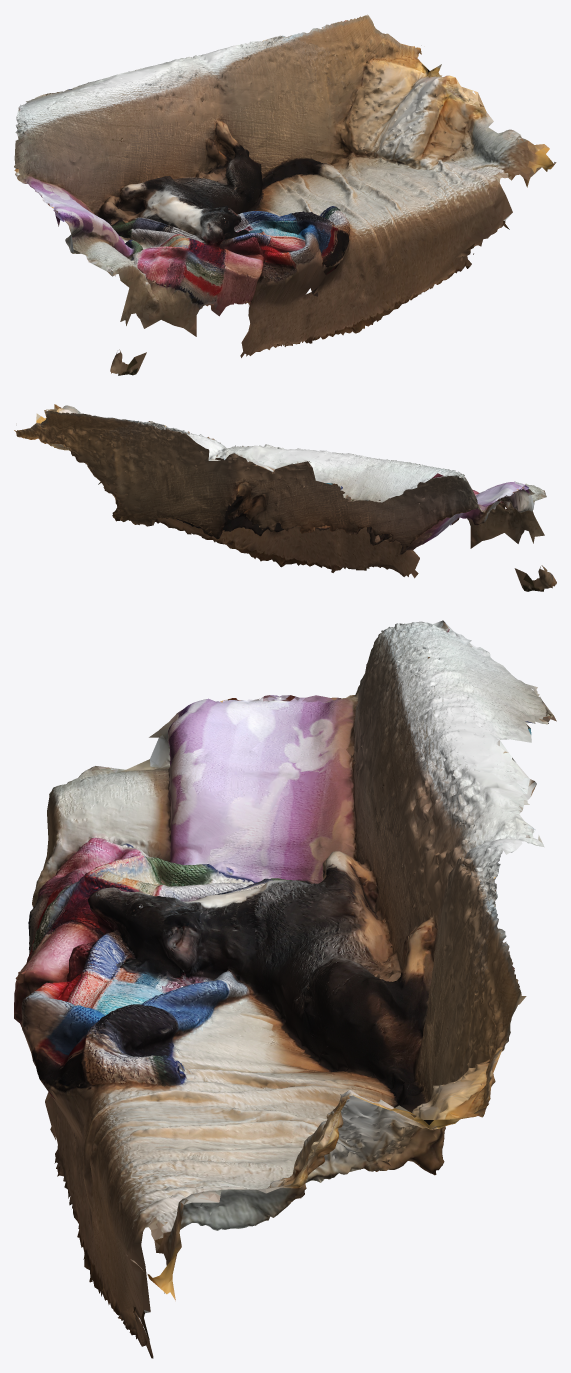
Rendered from testDawg.fbx.
3 renders of one model, top to bottom at view 1: azimuth 30°, elevation 25°; view 2: azimuth 150°, elevation 25°; view 3: azimuth 270°, elevation 25°, orthographic. The views are drawn at different scales.
Parts seen in each view (by area): view 1: Stereo textured mesh; view 2: Stereo textured mesh; view 3: Stereo textured mesh.
Part boxes in pixels (left/top/right/bottom): Stereo textured mesh: left=14, top=14, right=556, bottom=375; Stereo textured mesh: left=14, top=404, right=556, bottom=591; Stereo textured mesh: left=14, top=620, right=556, bottom=1358.
Size of the model in its own units: 994 by 429 by 493.
